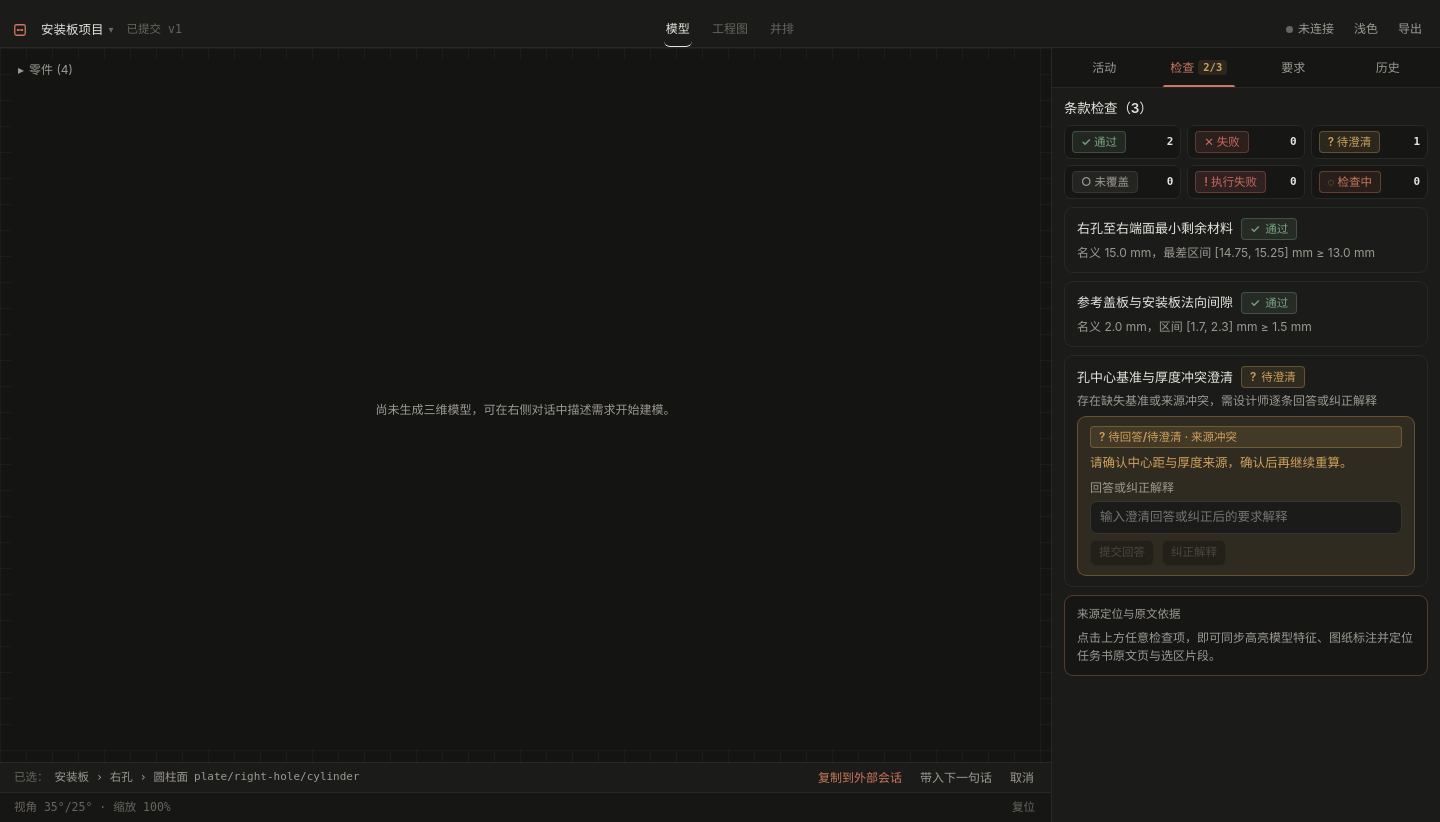
Test: ProjectAgentM1Workbench (M2-FE-01 双视图联动、对象上下文与检查定位) › locateM2Evidence 缺失时诚实提示后端未接线，不伪造后端定位成功
What coordinates should you click on to do the following:
click the button "右孔至右端面最小剩余材料"
I would click on:
 (1246, 240)
Its box is [1077,218,1415,262].
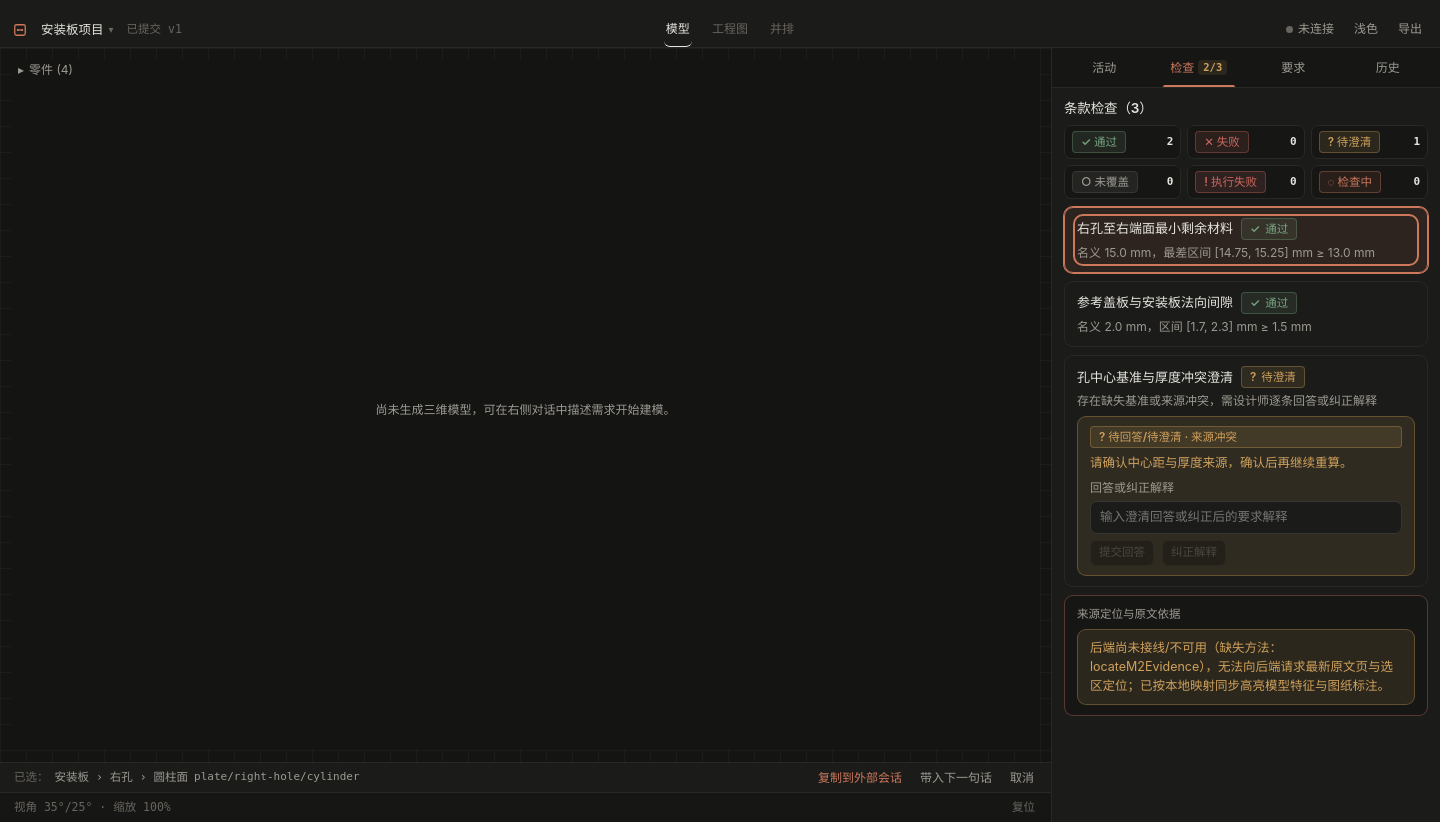
Now the text "后端尚未接线/不可用（缺失方法：locateM2Evidence），无法向后端请求最新原文页与选区定位；已按本地映射同步高亮模型特征与图纸标注。" is shown, box [1077,629,1415,706]
